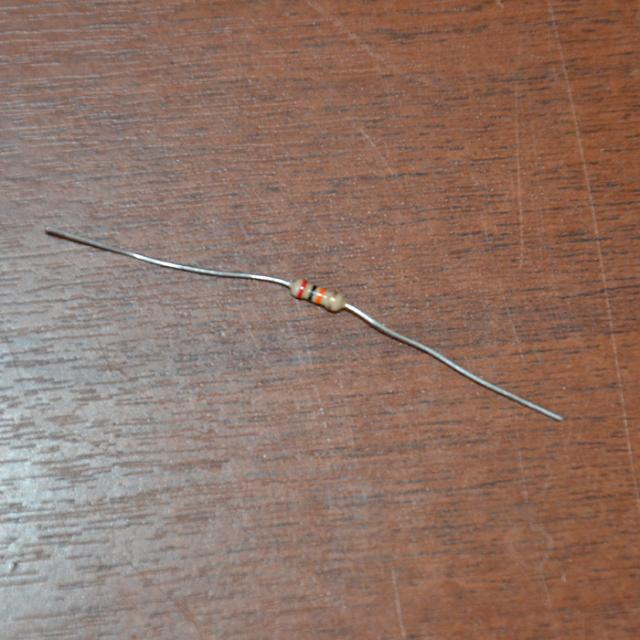black: (308, 286, 316, 302)
gold: (327, 292, 337, 309)
orange: (315, 288, 324, 304)
red: (295, 280, 307, 297)
resistor: (283, 276, 349, 316)
